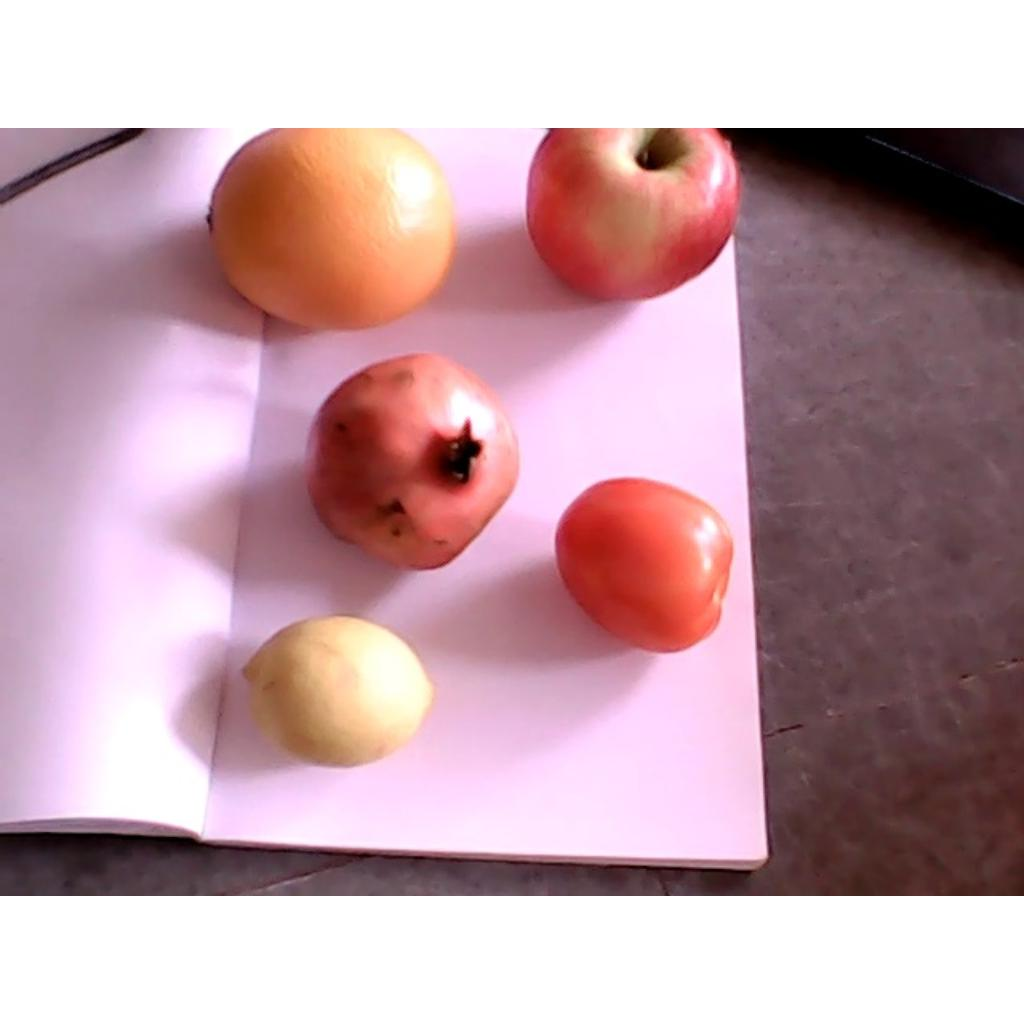apple: (526, 128, 739, 302)
lemon: (241, 613, 437, 767)
orange: (208, 128, 454, 332)
pomegranate: (307, 351, 521, 570)
tomato: (557, 477, 733, 652)
